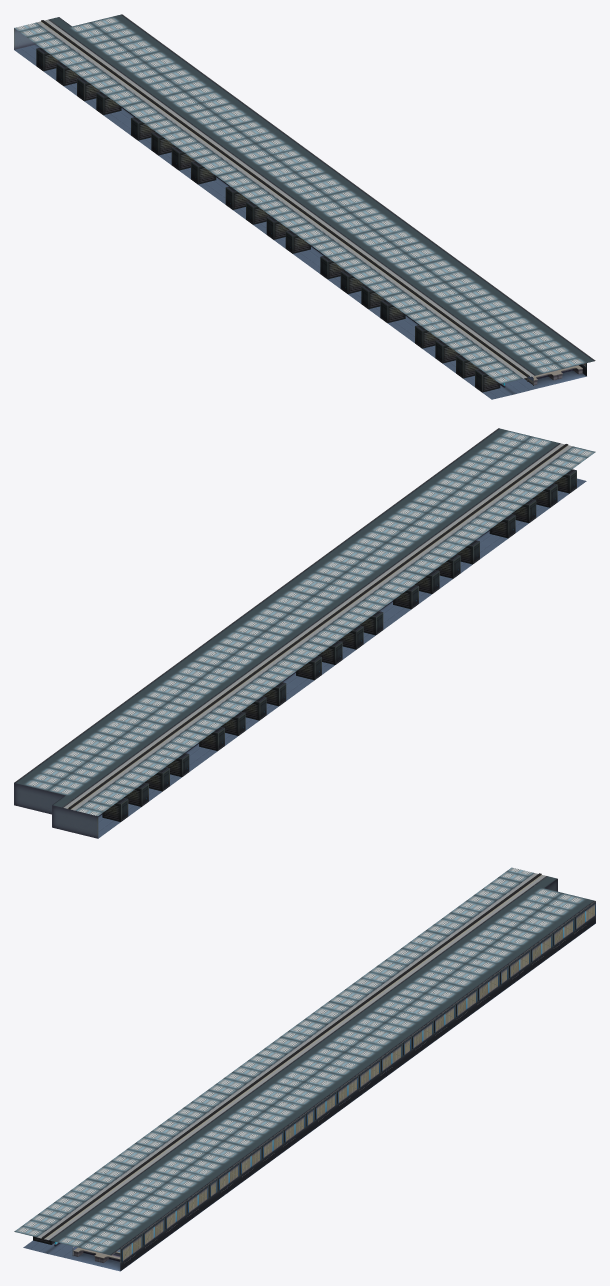
The model's file is PK_model_house_fangwuneibu.FBX.
3 views of the same model, one above another, from view 1: azimuth 30°, elevation 25°; view 2: azimuth 150°, elevation 25°; view 3: azimuth 330°, elevation 25° (orthographic). The views are drawn at different scales.
Parts seen in each view (by area): view 1: PK_model_house_fangwuneibu; view 2: PK_model_house_fangwuneibu; view 3: PK_model_house_fangwuneibu.
Part boxes in pixels (x1,y1,x2,y2): PK_model_house_fangwuneibu: [14, 14, 595, 399]; PK_model_house_fangwuneibu: [14, 428, 595, 838]; PK_model_house_fangwuneibu: [14, 867, 595, 1271].
Size of the model in its own units: 1140 by 260 by 10010.
